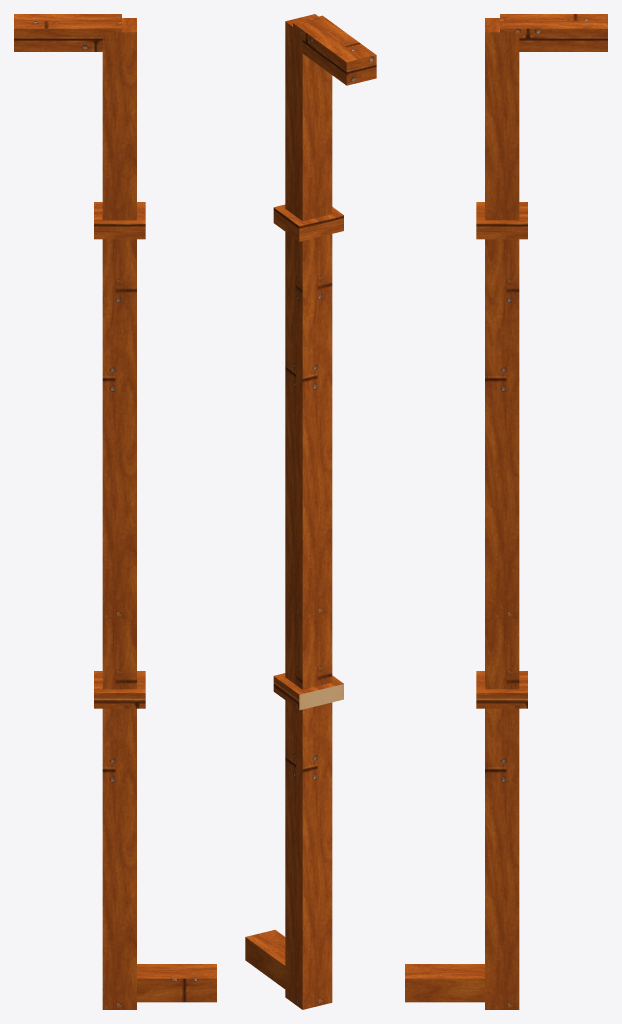
The model's file is Downpipe.fbx.
3 renders of one model, left to right at view 1: azimuth 90°, elevation 25°; view 2: azimuth 210°, elevation 25°; view 3: azimuth 270°, elevation 25°, orthographic.
Parts seen in each view (by area): view 1: Downpipe; view 2: Downpipe; view 3: Downpipe.
Boxes of the visible parts, x1=… form: Downpipe: x1=14, y1=14, x2=216, y2=1009; Downpipe: x1=245, y1=14, x2=376, y2=1009; Downpipe: x1=405, y1=14, x2=607, y2=1009.
Bounding box in the file's own units: 0.12 × 2.51 × 0.47.
